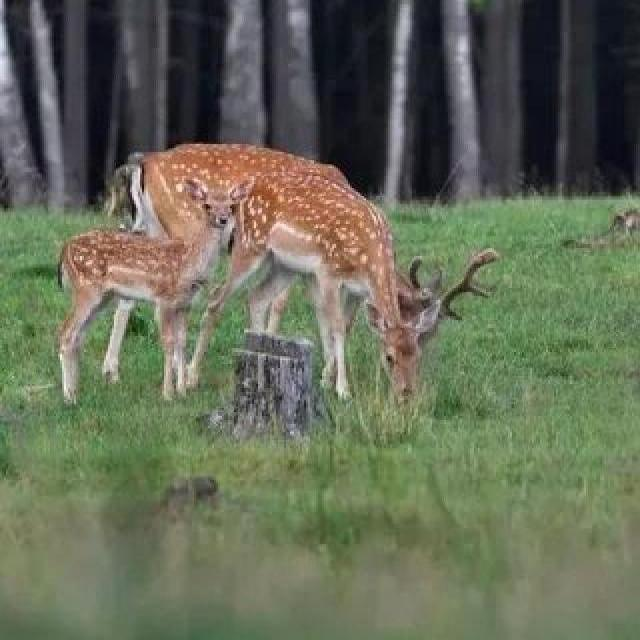deer: (134, 128, 432, 347)
